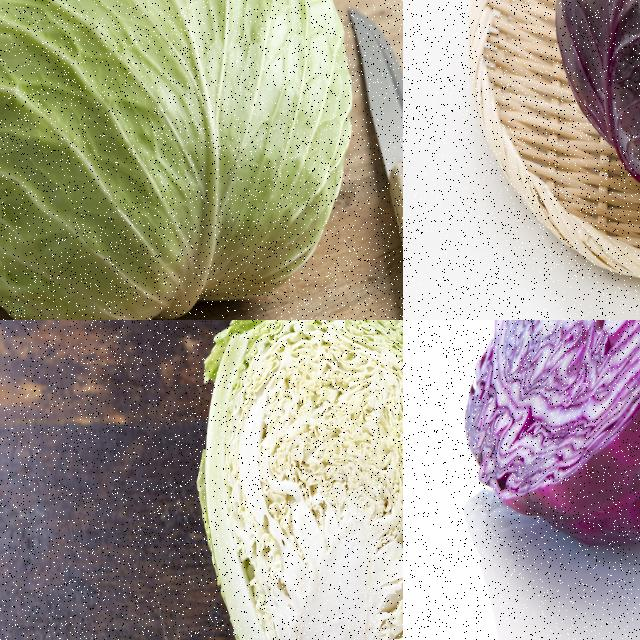cabbage: (0, 0, 359, 319), (190, 320, 402, 639), (462, 320, 639, 550), (555, 0, 639, 212)
